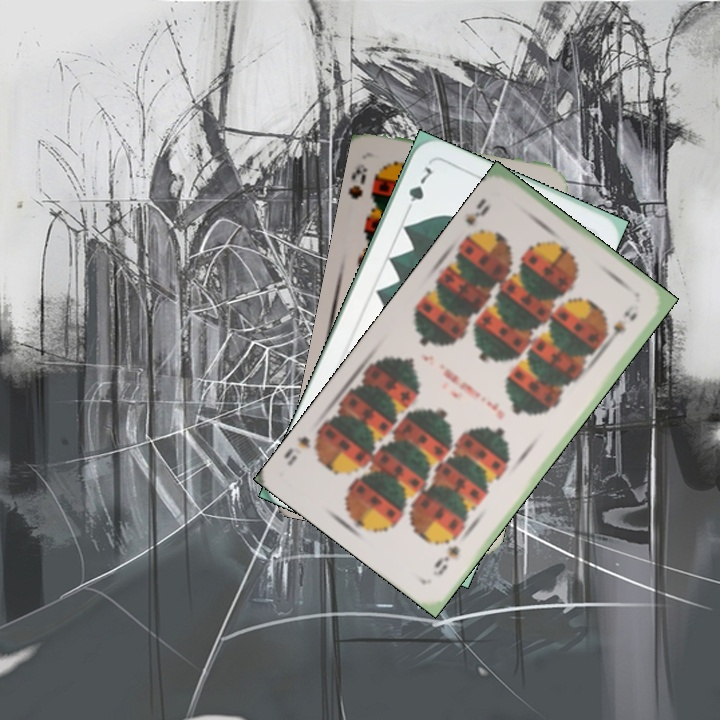G7: (403, 162, 435, 216)
S8: (346, 160, 370, 202)
S9: (460, 194, 493, 245), (429, 541, 462, 579)
